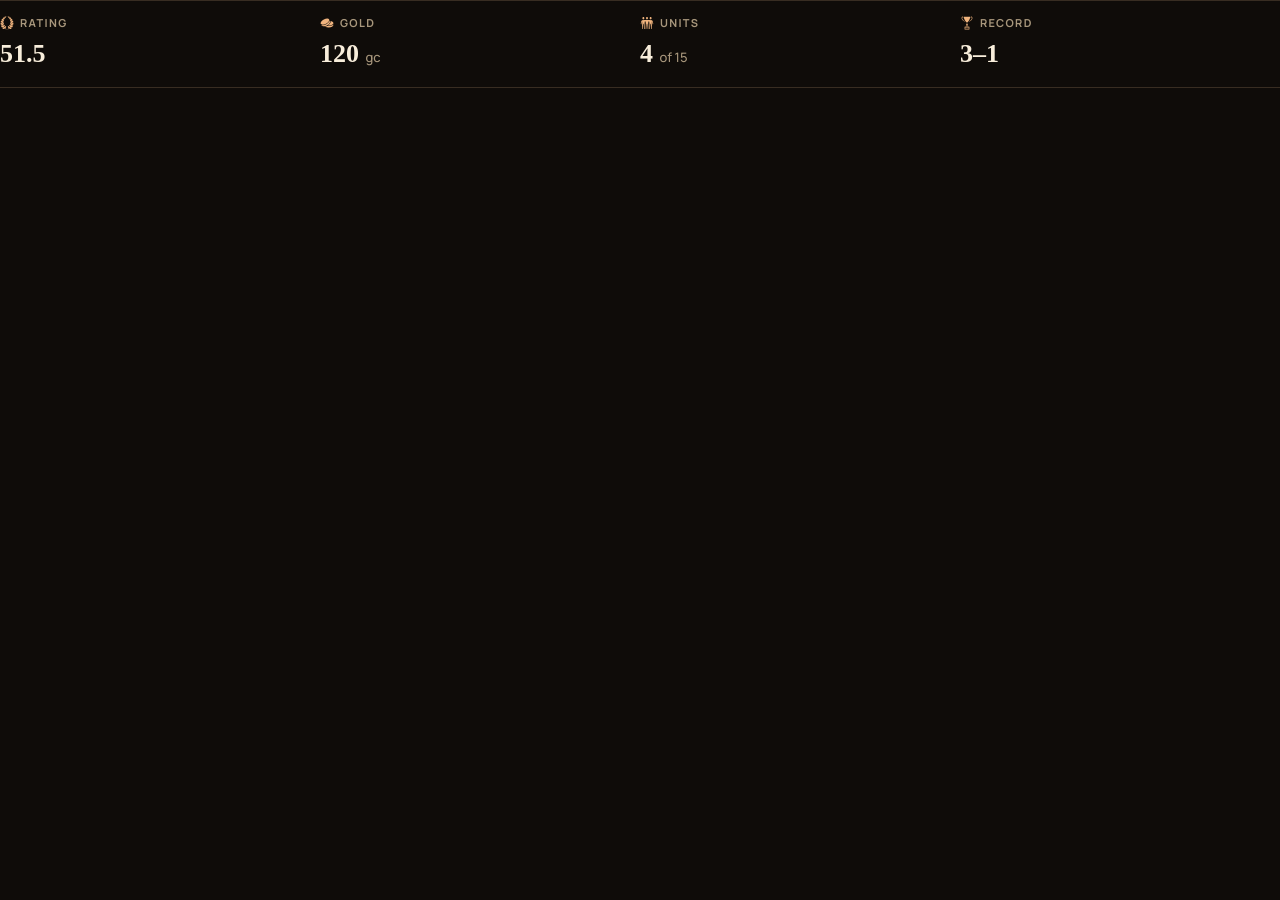
Test: The header's windows › lists the last battles with their numbers, opponents and results, each a link
This screenshot has width=1280, height=900.
Click the button named "Record 3–1": (980, 53) [960, 34, 1268, 72]
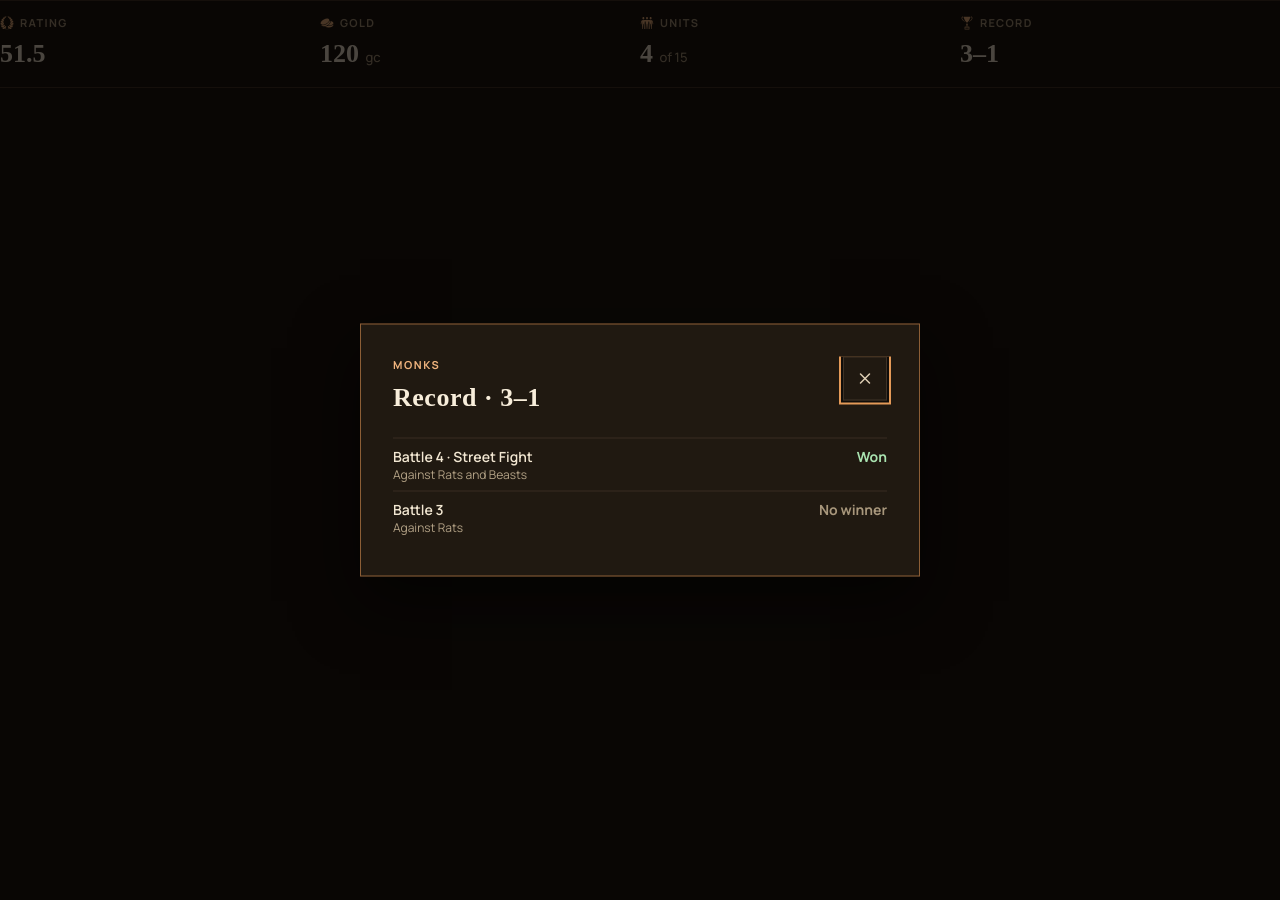
Now the link "Battle 4 · Street Fight Against Rats and Beasts Won" is shown, box [393, 438, 887, 490]
Now the link "Battle 3 Against Rats No winner" is shown, box [393, 492, 887, 544]
